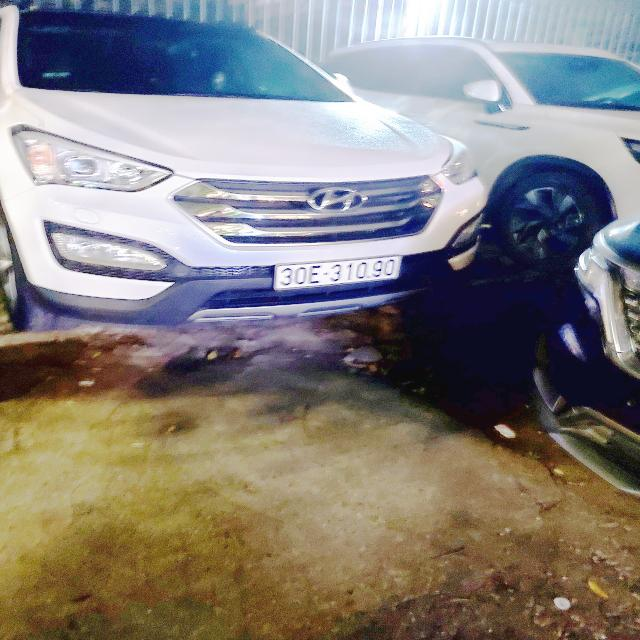license_plate: (272, 252, 407, 294)
